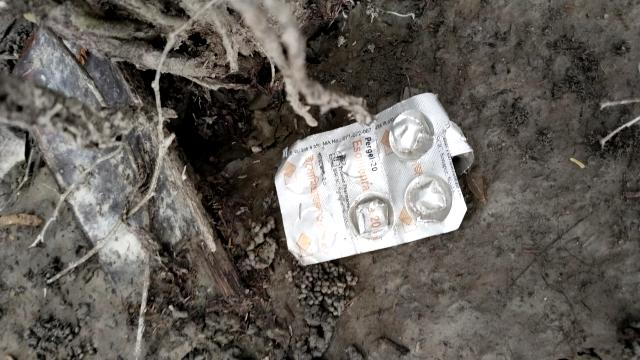medicine: (278, 133, 461, 241)
